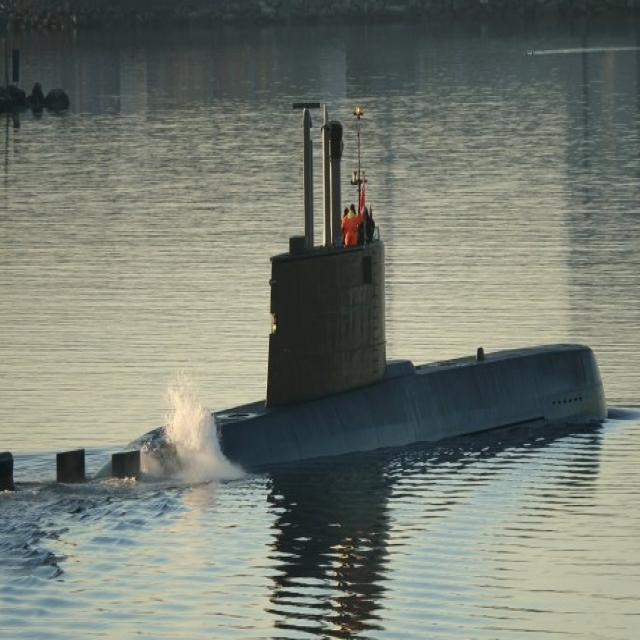submarine: (1, 56, 635, 508)
